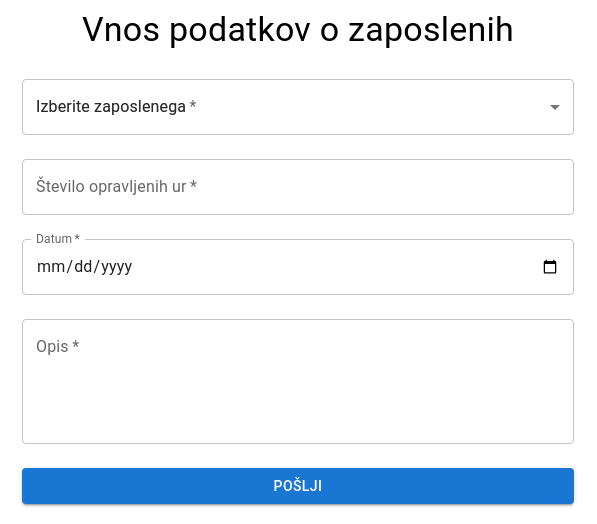
renders EmployeeEntryForm with mocked data
# Simulate opening the dropdown
Press the mouse on the dropdown named "izberite zaposlenega" at (298, 107), box left=22, top=79, right=574, bottom=135
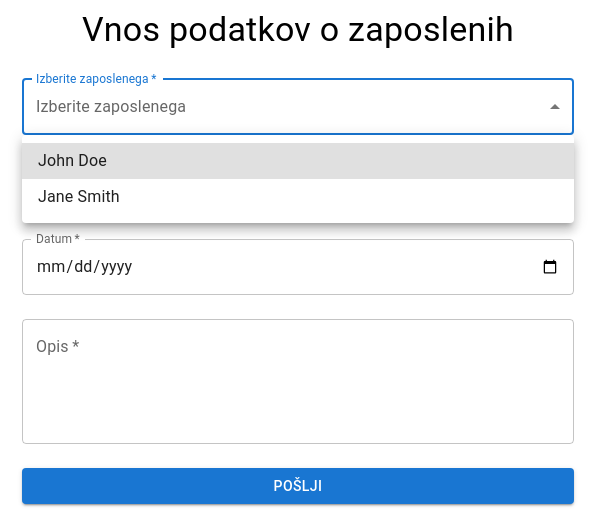
Check: the option "John Doe" is shown, box left=22, top=143, right=574, bottom=179
Check: the option "Jane Smith" is shown, box left=38, top=187, right=120, bottom=206
